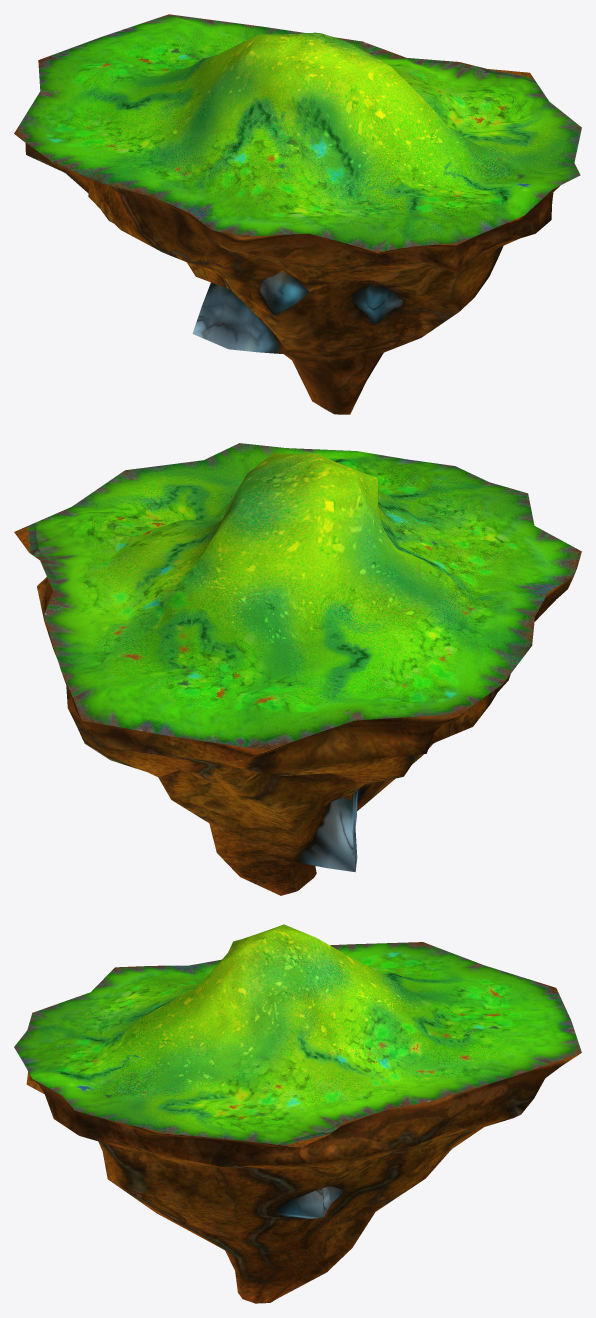
Rendered from island_mesh.fbx.
3 renders of one model, top to bottom at view 1: azimuth 30°, elevation 25°; view 2: azimuth 150°, elevation 25°; view 3: azimuth 270°, elevation 25°, orthographic. The views are drawn at different scales.
Parts seen in each view (by area): view 1: pCone1; view 2: pCone1; view 3: pCone1.
Part boxes in pixels (left/top/right/bottom): pCone1: left=14, top=14, right=581, bottom=414; pCone1: left=14, top=443, right=581, bottom=895; pCone1: left=14, top=924, right=581, bottom=1303.
Size of the model in its own units: 18.01 by 14.46 by 21.17.
1 material, 1 textured.
